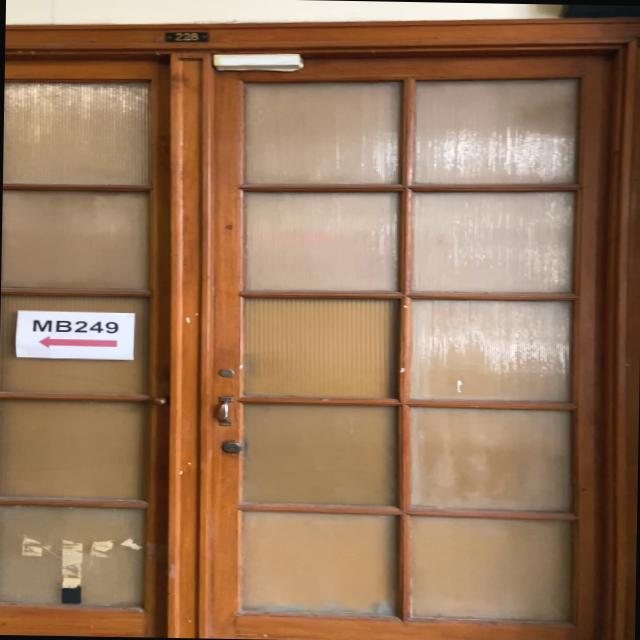statues: (165, 30, 210, 43)
